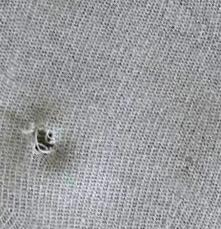hole: (29, 123, 59, 157)
